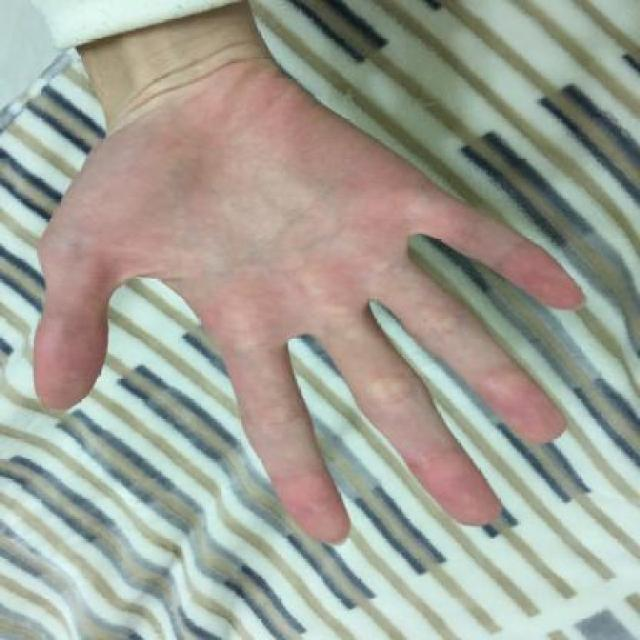bare_hand: (19, 52, 604, 560)
